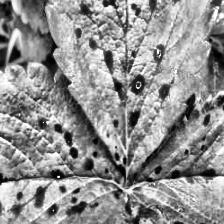Leaf Spot: (44, 0, 220, 180), (0, 60, 144, 224), (127, 89, 224, 224)
